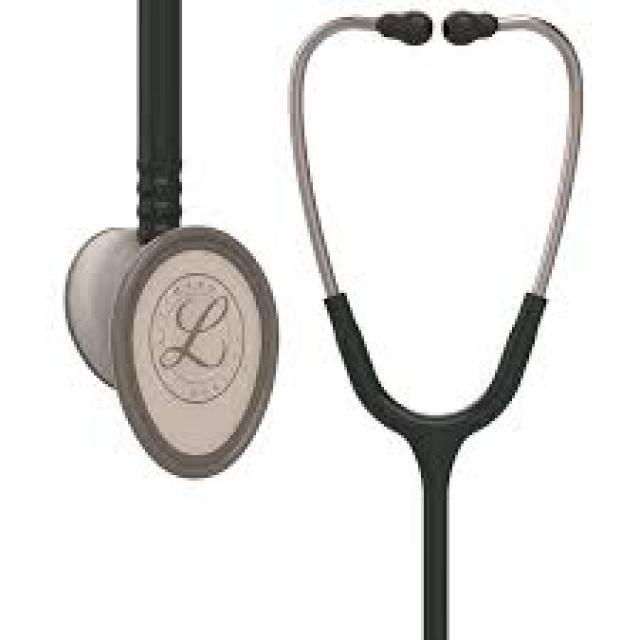stethoscope: (67, 37, 582, 613)
